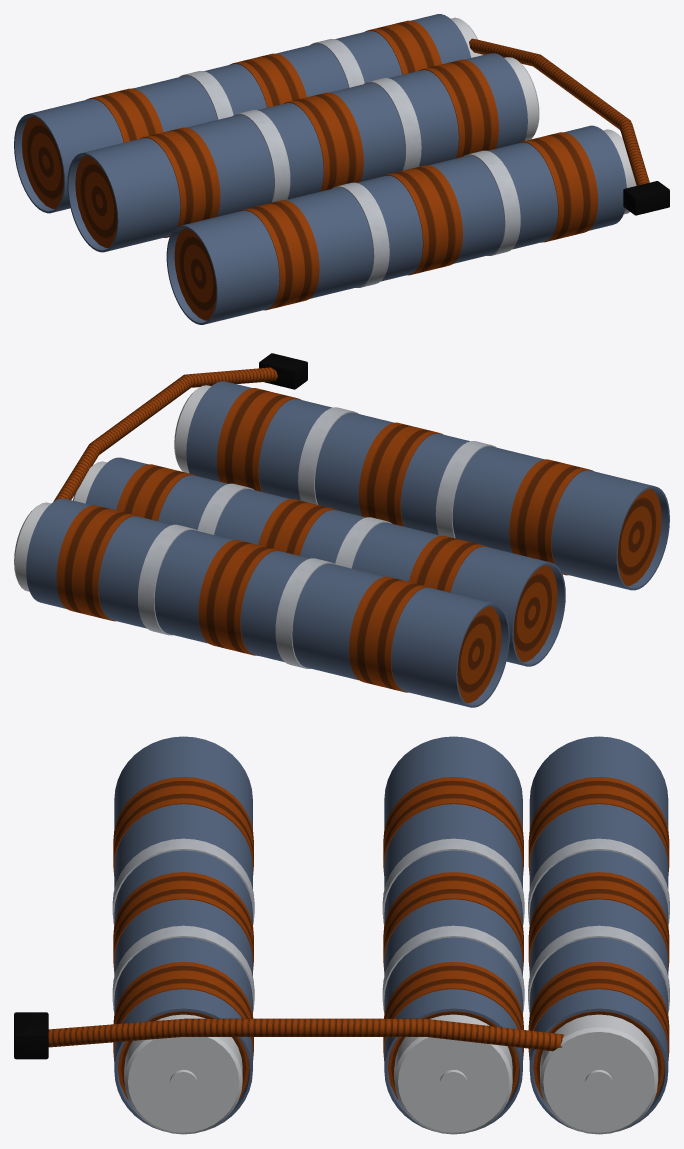
Rendered from sojourner-battery.glb.
3 renders of one model, top to bottom at view 1: azimuth 30°, elevation 25°; view 2: azimuth 150°, elevation 25°; view 3: azimuth 270°, elevation 25°, orthographic. The views are drawn at different scales.
Visible parts, largest first — view 1: BATTERY_3__CELL_SHRINK_WRAP, BATTERY_2__CELL_SHRINK_WRAP, BATTERY_3__POLYIMIDE_FLEX, BATTERY_1__CELL_SHRINK_WRAP, BATTERY_2__POLYIMIDE_FLEX, BATTERY_1__POLYIMIDE_FLEX, BATTERY_3__AL_CLEAR_ANODIZE, BATTERY_ASSEMBLY__POLYIMIDE_FLEX, BATTERY_2__AL_CLEAR_ANODIZE, BATTERY_1__AL_CLEAR_ANODIZE, BATTERY_ASSEMBLY__AL_BLACK_ANODIZE, BATTERY_2_CELLS__LISOCL2_CELL_CAN (+1 smaller); view 2: BATTERY_1__CELL_SHRINK_WRAP, BATTERY_3__CELL_SHRINK_WRAP, BATTERY_1__POLYIMIDE_FLEX, BATTERY_2__CELL_SHRINK_WRAP, BATTERY_3__POLYIMIDE_FLEX, BATTERY_2__POLYIMIDE_FLEX, BATTERY_1__AL_CLEAR_ANODIZE, BATTERY_ASSEMBLY__POLYIMIDE_FLEX, BATTERY_3__AL_CLEAR_ANODIZE, BATTERY_2__AL_CLEAR_ANODIZE, BATTERY_ASSEMBLY__AL_BLACK_ANODIZE, BATTERY_1_CELLS__LISOCL2_CELL_CAN (+1 smaller); view 3: BATTERY_1__CELL_SHRINK_WRAP, BATTERY_2__CELL_SHRINK_WRAP, BATTERY_3__CELL_SHRINK_WRAP, BATTERY_1__POLYIMIDE_FLEX, BATTERY_2__POLYIMIDE_FLEX, BATTERY_3__POLYIMIDE_FLEX, BATTERY_1_CELLS__LISOCL2_CELL_CAN, BATTERY_3_CELLS__LISOCL2_CELL_CAN, BATTERY_2_CELLS__LISOCL2_CELL_CAN, BATTERY_ASSEMBLY__POLYIMIDE_FLEX, BATTERY_2__AL_CLEAR_ANODIZE, BATTERY_3__AL_CLEAR_ANODIZE (+2 smaller).
Boxes of the visible parts, bbox=[...] form: BATTERY_3__CELL_SHRINK_WRAP: bbox=[166, 125, 626, 324]; BATTERY_2__CELL_SHRINK_WRAP: bbox=[67, 53, 527, 252]; BATTERY_3__POLYIMIDE_FLEX: bbox=[174, 132, 597, 320]; BATTERY_1__CELL_SHRINK_WRAP: bbox=[14, 14, 471, 213]; BATTERY_2__POLYIMIDE_FLEX: bbox=[75, 59, 498, 247]; BATTERY_1__POLYIMIDE_FLEX: bbox=[22, 20, 441, 208]; BATTERY_3__AL_CLEAR_ANODIZE: bbox=[332, 150, 520, 287]; BATTERY_ASSEMBLY__POLYIMIDE_FLEX: bbox=[469, 38, 649, 185]; BATTERY_2__AL_CLEAR_ANODIZE: bbox=[232, 78, 421, 202]; BATTERY_1__AL_CLEAR_ANODIZE: bbox=[179, 39, 364, 119]; BATTERY_ASSEMBLY__AL_BLACK_ANODIZE: bbox=[623, 181, 669, 215]; BATTERY_2_CELLS__LISOCL2_CELL_CAN: bbox=[504, 57, 539, 140]; BATTERY_1__CELL_SHRINK_WRAP: bbox=[26, 498, 509, 707]; BATTERY_3__CELL_SHRINK_WRAP: bbox=[186, 381, 669, 590]; BATTERY_1__POLYIMIDE_FLEX: bbox=[56, 505, 501, 703]; BATTERY_2__CELL_SHRINK_WRAP: bbox=[85, 457, 565, 666]; BATTERY_3__POLYIMIDE_FLEX: bbox=[216, 388, 661, 585]; BATTERY_2__POLYIMIDE_FLEX: bbox=[116, 464, 557, 661]; BATTERY_1__AL_CLEAR_ANODIZE: bbox=[138, 524, 335, 668]; BATTERY_ASSEMBLY__POLYIMIDE_FLEX: bbox=[53, 367, 277, 501]; BATTERY_3__AL_CLEAR_ANODIZE: bbox=[298, 407, 496, 538]; BATTERY_2__AL_CLEAR_ANODIZE: bbox=[197, 483, 392, 568]; BATTERY_ASSEMBLY__AL_BLACK_ANODIZE: bbox=[259, 353, 307, 389]; BATTERY_1_CELLS__LISOCL2_CELL_CAN: bbox=[14, 502, 50, 591]; BATTERY_1__CELL_SHRINK_WRAP: bbox=[529, 736, 668, 1131]; BATTERY_2__CELL_SHRINK_WRAP: bbox=[384, 736, 522, 1131]; BATTERY_3__CELL_SHRINK_WRAP: bbox=[114, 736, 252, 1131]; BATTERY_1__POLYIMIDE_FLEX: bbox=[528, 777, 669, 1099]; BATTERY_2__POLYIMIDE_FLEX: bbox=[383, 777, 523, 1099]; BATTERY_3__POLYIMIDE_FLEX: bbox=[113, 777, 253, 1099]; BATTERY_1_CELLS__LISOCL2_CELL_CAN: bbox=[540, 1014, 658, 1134]; BATTERY_3_CELLS__LISOCL2_CELL_CAN: bbox=[124, 1014, 242, 1134]; BATTERY_2_CELLS__LISOCL2_CELL_CAN: bbox=[394, 1014, 512, 1134]; BATTERY_ASSEMBLY__POLYIMIDE_FLEX: bbox=[48, 1018, 563, 1051]; BATTERY_2__AL_CLEAR_ANODIZE: bbox=[382, 838, 524, 1012]; BATTERY_3__AL_CLEAR_ANODIZE: bbox=[112, 838, 254, 1012].
Size of the model in its own units: 0.1998 by 0.0423 by 0.1895.
5 materials, 3 textured.
